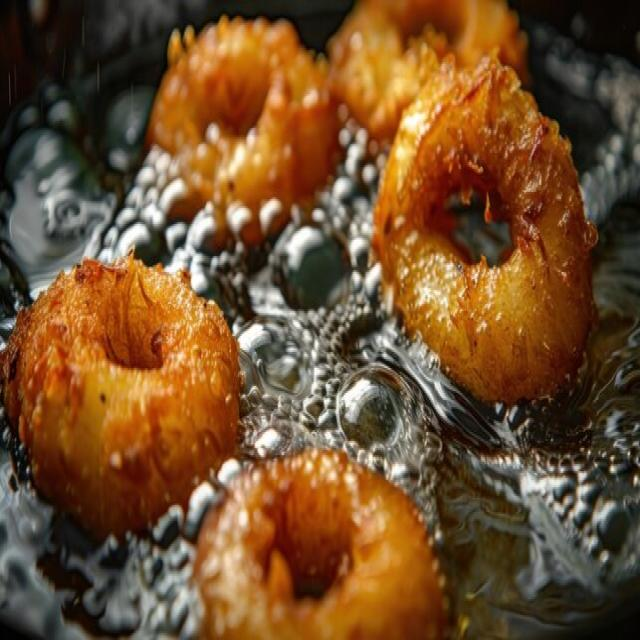MEDU VADA: (373, 50, 596, 402), (0, 260, 240, 535), (194, 448, 446, 638), (146, 18, 339, 247)
